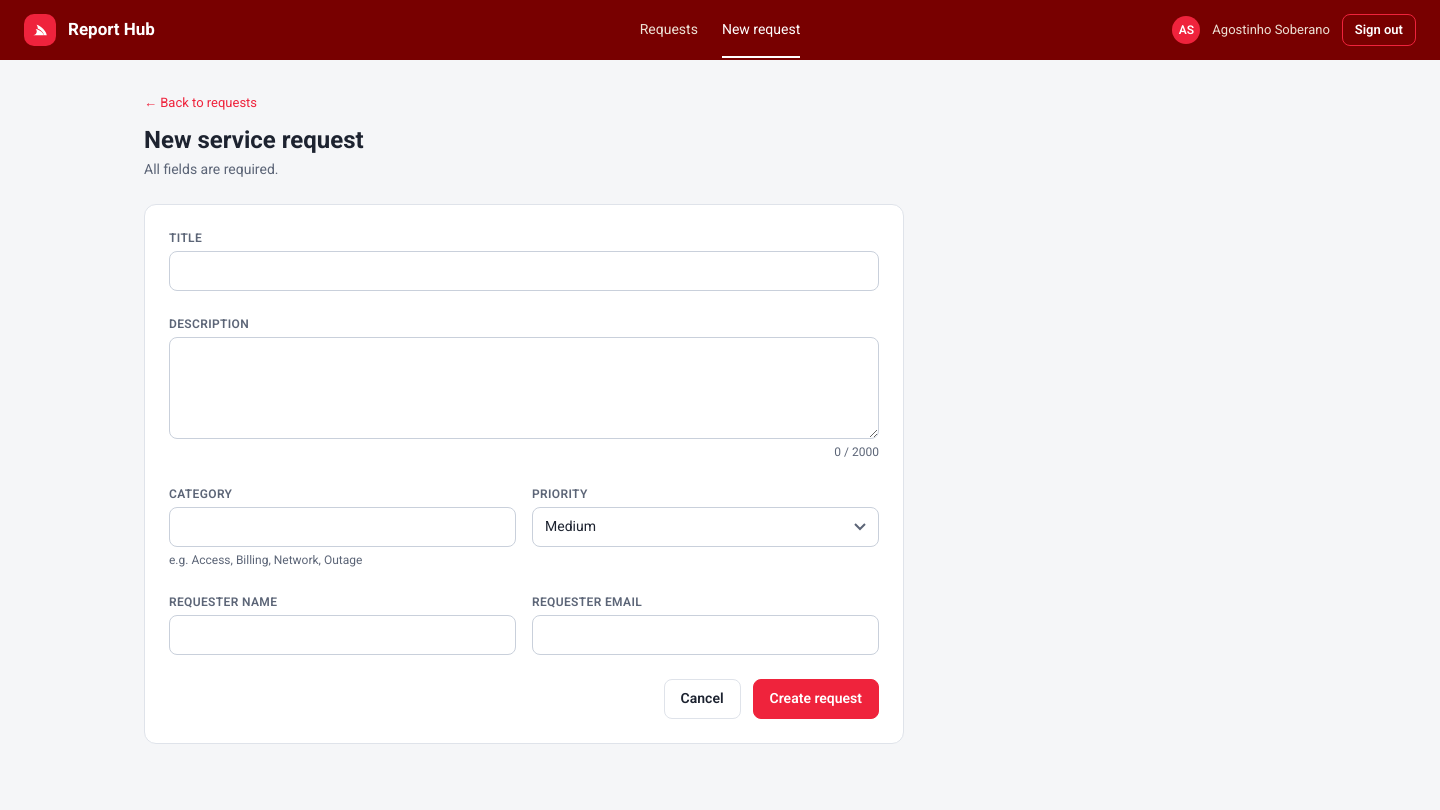
create request › shows validation errors and sends nothing
Type "Hi" into the field labelled "Title" at (524, 270), box x1=169 y1=250 x2=879 y2=290
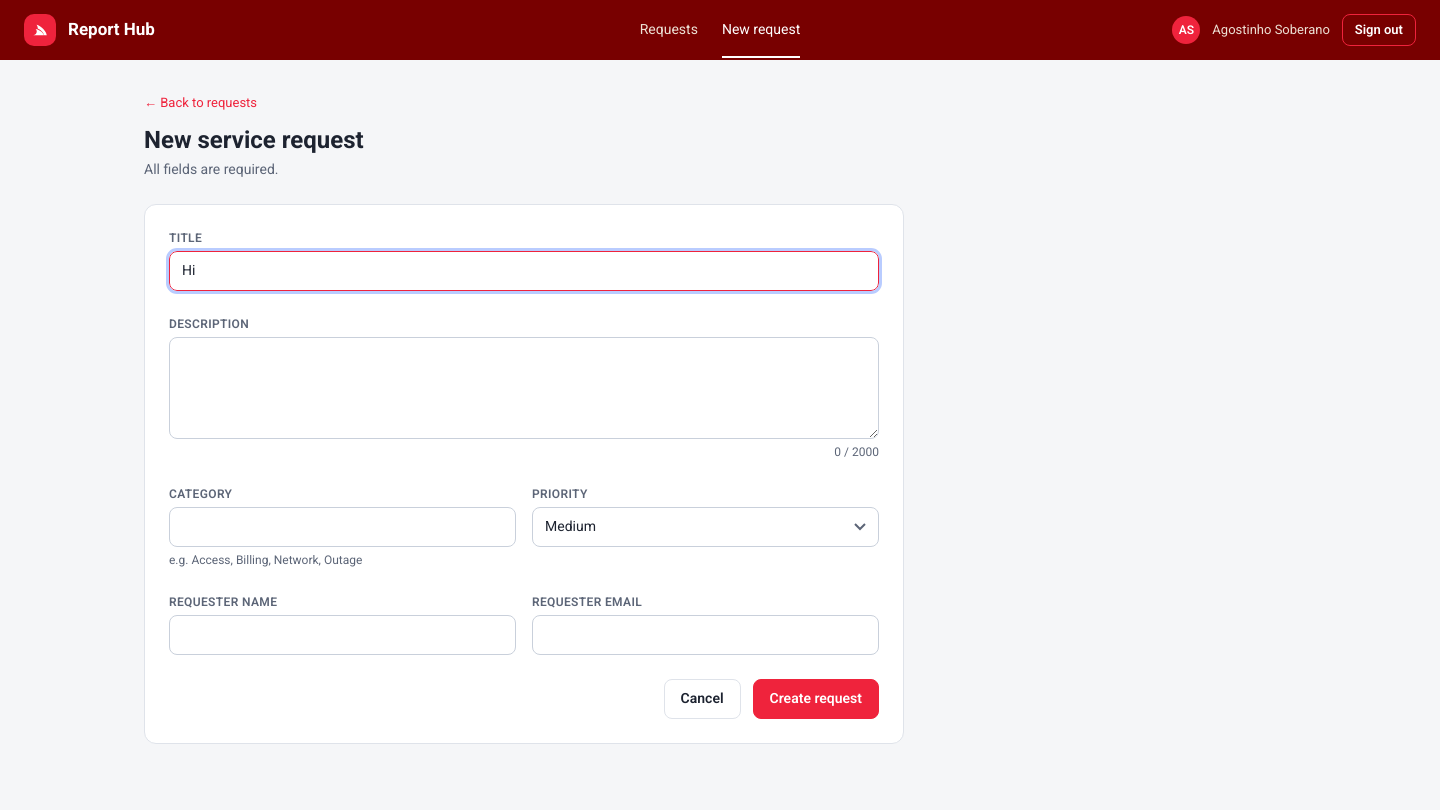
Click the button "Create request" at (816, 698), box x1=753 y1=678 x2=879 y2=718
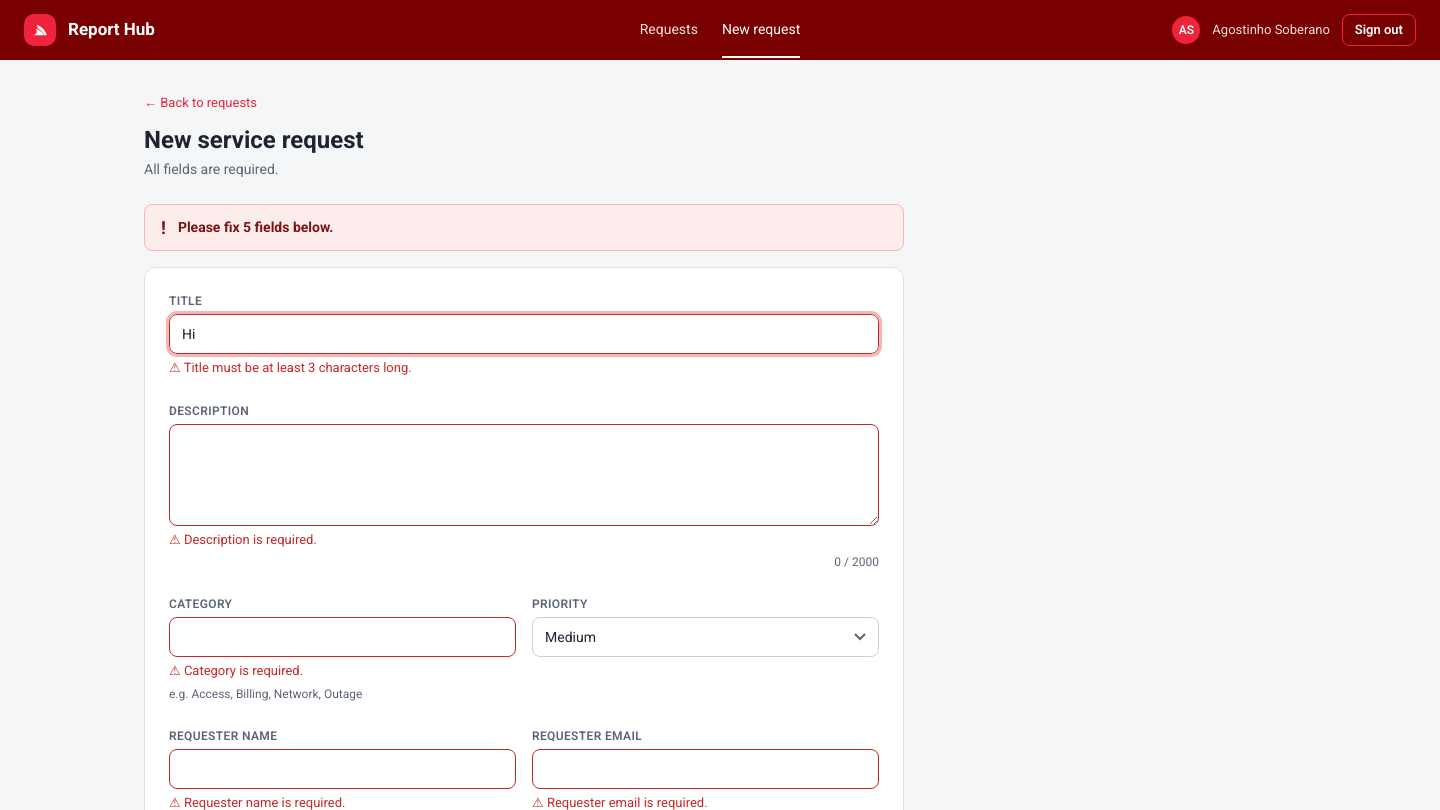
Result: the text "Please fix 5 fields below." is shown at x1=178 y1=218 x2=334 y2=234
